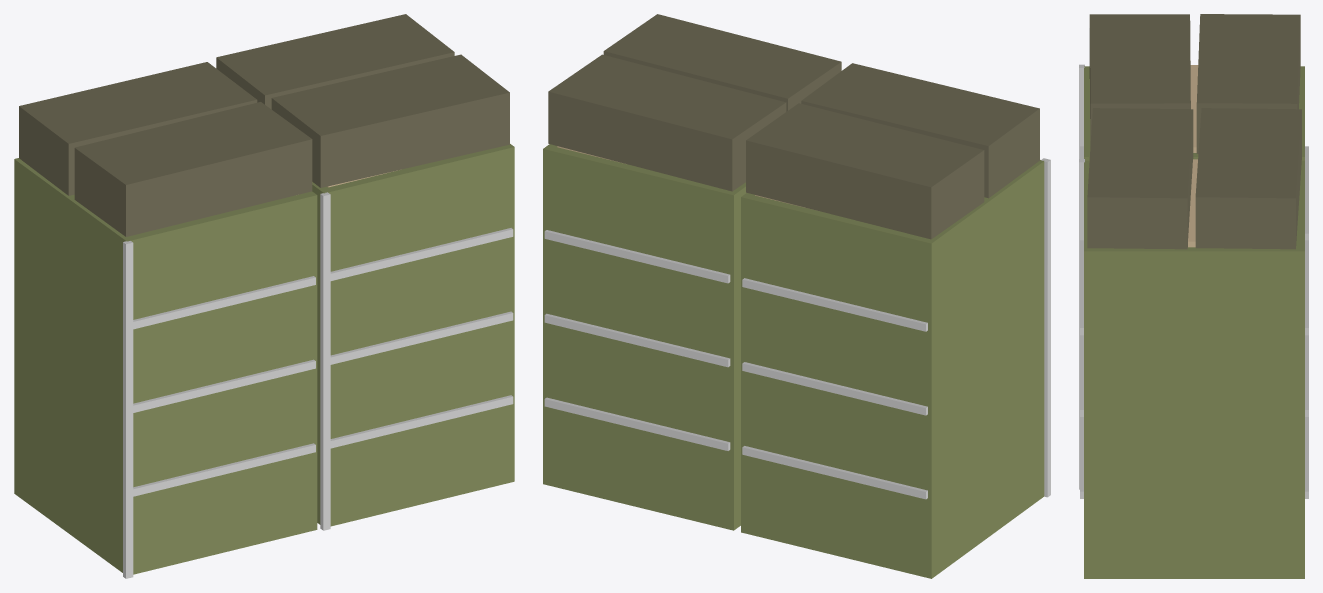
The model's file is SM_HescoCorto2_v3_RemateSacos_e0_Sano_LOD0.fbx.
The picture shows the model from 3 angles, left to right: view 1: azimuth 30°, elevation 25°; view 2: azimuth 150°, elevation 25°; view 3: azimuth 270°, elevation 25°; orthographic projection. The views are drawn at different scales.
Parts seen in each view (by area): view 1: SM_hesco_piezas_v72_LOD0; view 2: SM_hesco_piezas_v72_LOD0; view 3: SM_hesco_piezas_v72_LOD0.
Part boxes in pixels (x1=…): SM_hesco_piezas_v72_LOD0: x1=14, y1=14, x2=514, y2=578; SM_hesco_piezas_v72_LOD0: x1=543, y1=14, x2=1050, y2=578; SM_hesco_piezas_v72_LOD0: x1=1079, y1=14, x2=1308, y2=578.
Size of the model in its own units: 2.2 by 2.09 by 1.14.
